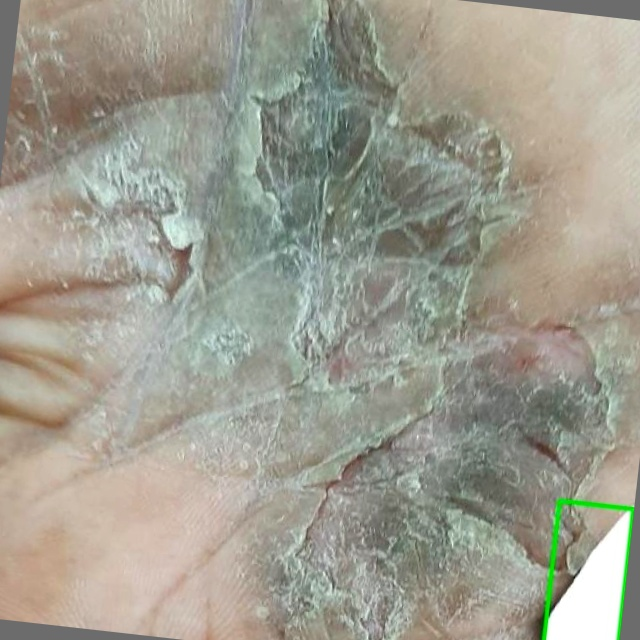Contact Dermatitis: (543, 501, 633, 639)
